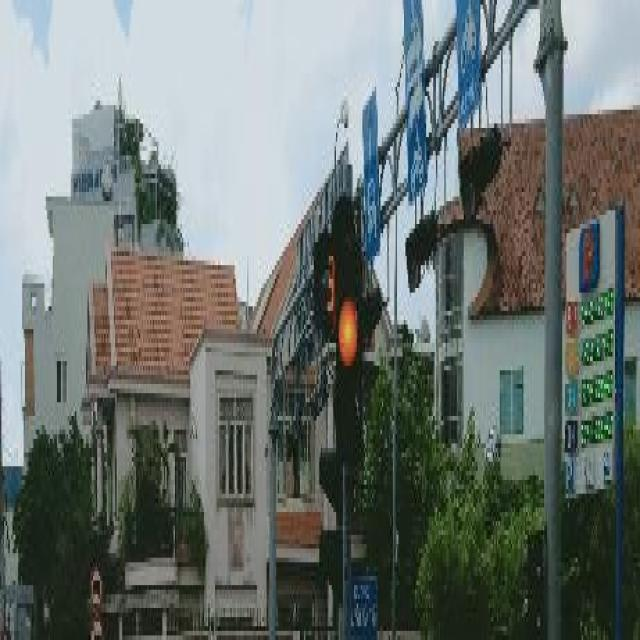yellow_light: (334, 203, 360, 461)
